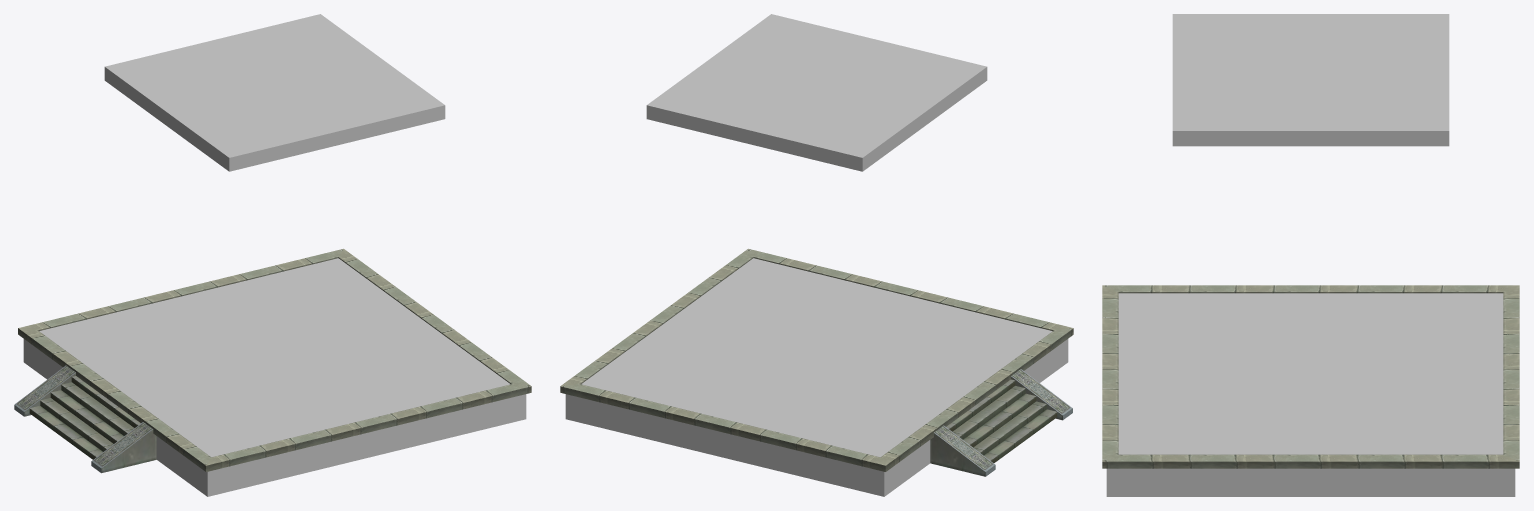
File: szc_building_16a_dizuo.FBX
The picture shows the model from 3 angles, left to right: view 1: azimuth 30°, elevation 25°; view 2: azimuth 150°, elevation 25°; view 3: azimuth 270°, elevation 25°; orthographic projection. The views are drawn at different scales.
Visible parts, largest first — view 1: szc_building_16a_dizuo; view 2: szc_building_16a_dizuo; view 3: szc_building_16a_dizuo.
Boxes of the visible parts, x1=… form: szc_building_16a_dizuo: x1=14, y1=14, x2=531, y2=496; szc_building_16a_dizuo: x1=560, y1=14, x2=1073, y2=496; szc_building_16a_dizuo: x1=1102, y1=14, x2=1519, y2=496.
Bounding box in the file's own units: 337 × 260 × 290.
